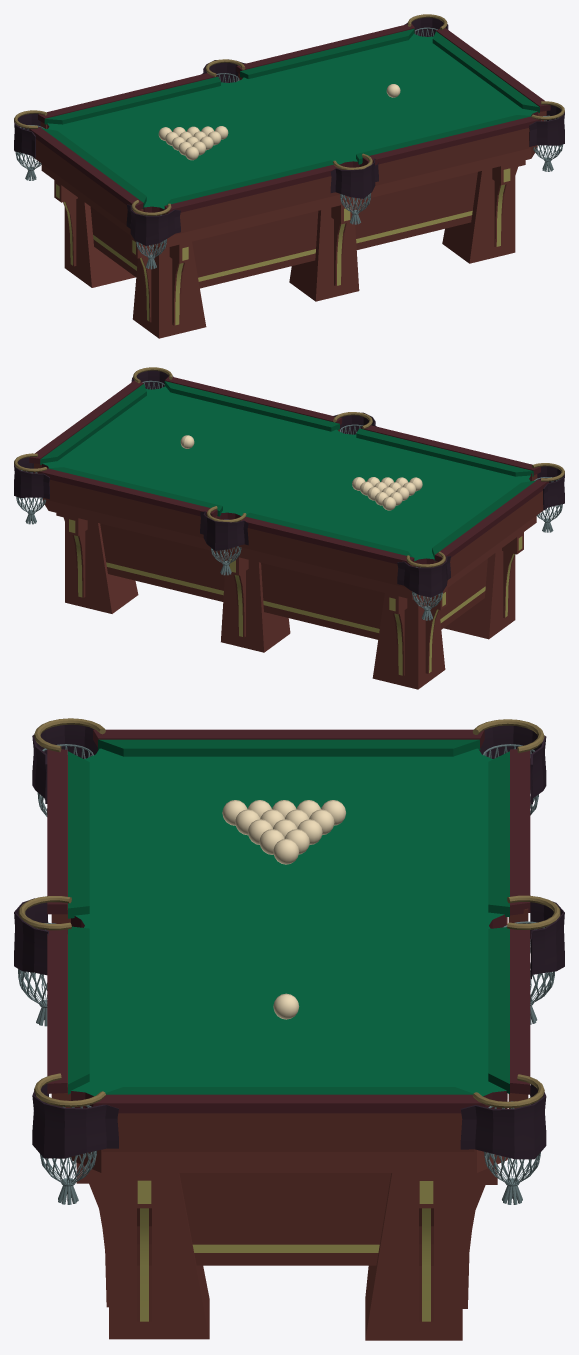
Rendered from billiards.fbx.
The picture shows the model from 3 angles, top to bottom: view 1: azimuth 30°, elevation 25°; view 2: azimuth 150°, elevation 25°; view 3: azimuth 270°, elevation 25°; orthographic projection. The views are drawn at different scales.
Visible parts, largest first — view 1: pCube25, polySurface40, pCube53, polySurface212, polySurface234, pCube66, polySurface223, polySurface239, polySurface228, pCylinder63, pCylinder59, pCylinder60 (+5 smaller); view 2: pCube25, polySurface40, pCube53, polySurface212, polySurface228, pCube66, polySurface234, polySurface229, polySurface239, pCylinder63, pCylinder60, pCylinder59 (+4 smaller); view 3: pCube25, polySurface40, polySurface234, pCube53, polySurface212, pCylinder63, pCube66, pCylinder59, pCylinder60, polySurface257, pCylinder58, pTorus8 (+2 smaller).
Boxes of the visible parts, box(x1,y1,x2,y2) form: pCube25: box(47, 34, 537, 215); polySurface40: box(29, 23, 550, 213); pCube53: box(90, 172, 477, 288); polySurface212: box(33, 73, 546, 235); polySurface234: box(442, 160, 525, 263); pCube66: box(41, 146, 537, 247); polySurface223: box(289, 202, 359, 301); polySurface239: box(132, 241, 206, 338); polySurface228: box(54, 180, 135, 287); pCylinder63: box(404, 14, 564, 171); pCylinder59: box(126, 200, 180, 269); pCylinder60: box(14, 110, 47, 180); pCube25: box(42, 386, 530, 567); polySurface40: box(29, 376, 548, 565); pCube53: box(100, 523, 487, 639); polySurface212: box(34, 429, 543, 587); polySurface228: box(372, 588, 447, 689); pCube66: box(42, 499, 536, 599); polySurface234: box(56, 513, 138, 613); polySurface229: box(221, 555, 290, 652); polySurface239: box(444, 548, 515, 639); pCylinder63: box(14, 367, 173, 524); pCylinder60: box(397, 551, 450, 620); pCylinder59: box(532, 463, 564, 532); pCube25: box(71, 748, 507, 1109); polySurface40: box(47, 729, 530, 1113); polySurface234: box(76, 1163, 497, 1340); pCube53: box(179, 1173, 391, 1265); polySurface212: box(51, 756, 528, 1151); pCylinder63: box(32, 1073, 546, 1204); pCube66: box(71, 917, 507, 1172); pCylinder59: box(32, 718, 105, 816); pCylinder60: box(472, 719, 546, 815); polySurface257: box(530, 901, 564, 978); pCylinder58: box(14, 898, 48, 975); pTorus8: box(18, 923, 56, 1026).
Bounding box in the file's own units: 7.32 × 2.47 × 4.39.
